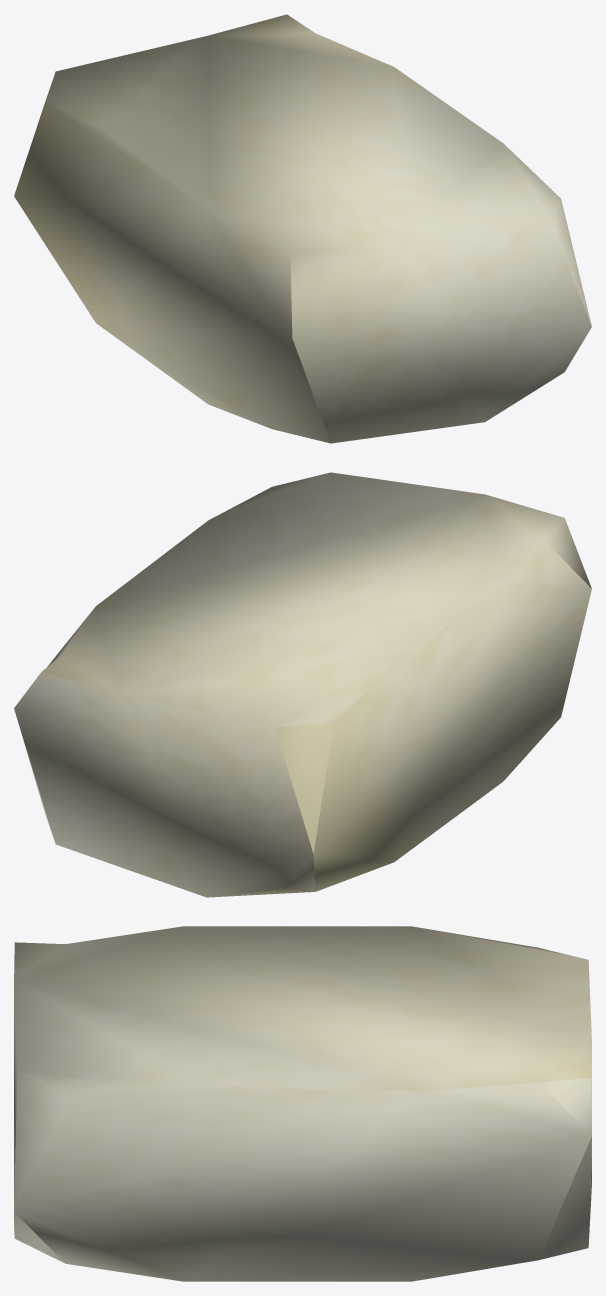
The model's file is powerCBullet.obj.
3 renders of one model, top to bottom at view 1: azimuth 30°, elevation 25°; view 2: azimuth 150°, elevation 25°; view 3: azimuth 270°, elevation 25°, orthographic. The views are drawn at different scales.
Visible parts, largest first — view 1: 立方体; view 2: 立方体; view 3: 立方体.
Boxes of the visible parts, x1,y1,x2,y2 form: 立方体: (14, 14, 591, 443); 立方体: (14, 472, 591, 897); 立方体: (14, 926, 591, 1281).
Size of the model in its own units: 0.3411 by 0.217 by 0.5491.
Materials: 1 (1 with a texture image).
